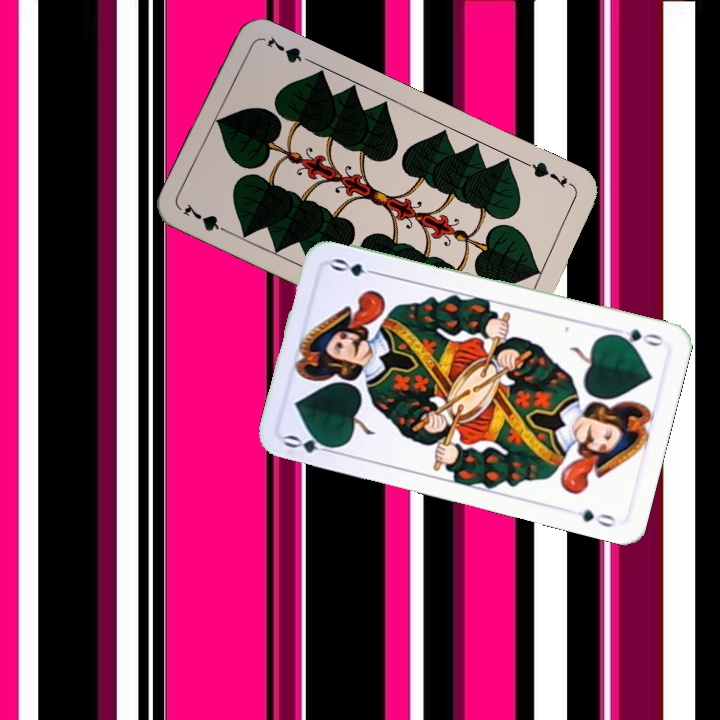G7: (179, 199, 234, 237), (521, 158, 577, 190)
GO: (280, 428, 340, 457), (607, 324, 666, 349)
